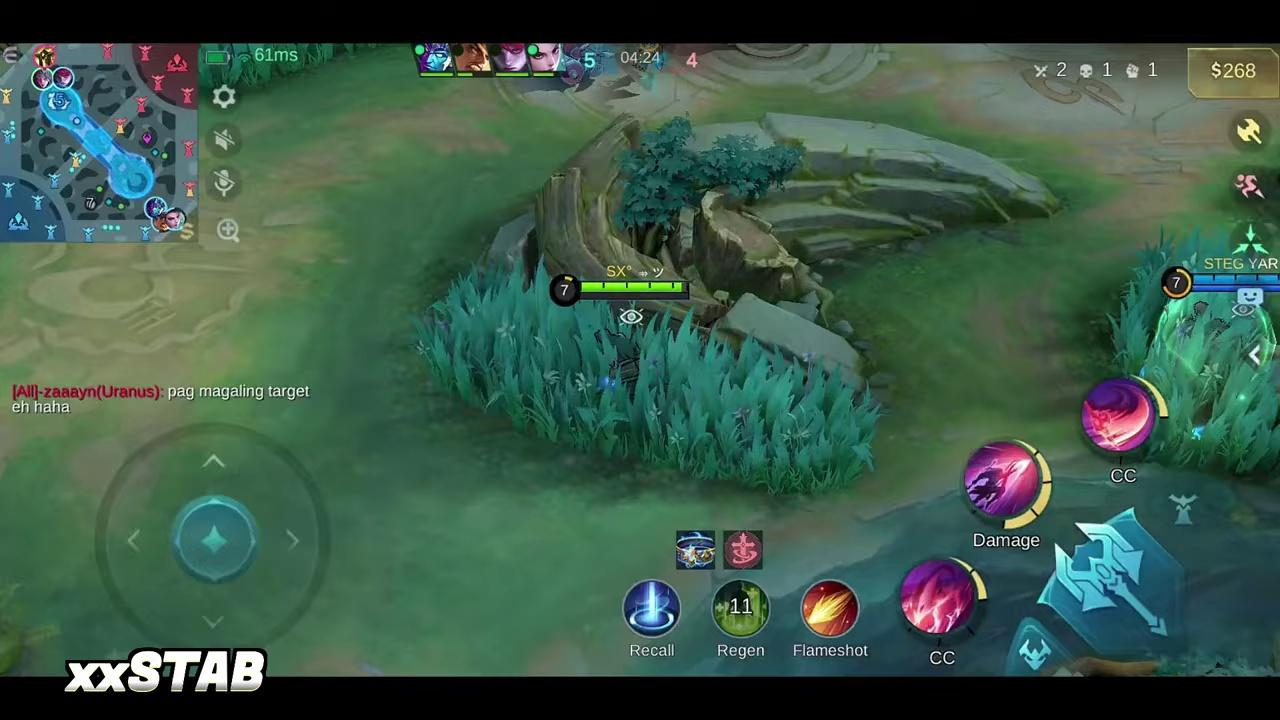bush: (415, 269, 881, 496), (1108, 244, 1278, 481)
hp_self: (583, 282, 688, 291)
